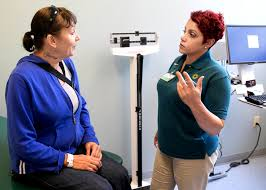Bad: (5, 6, 230, 118)
